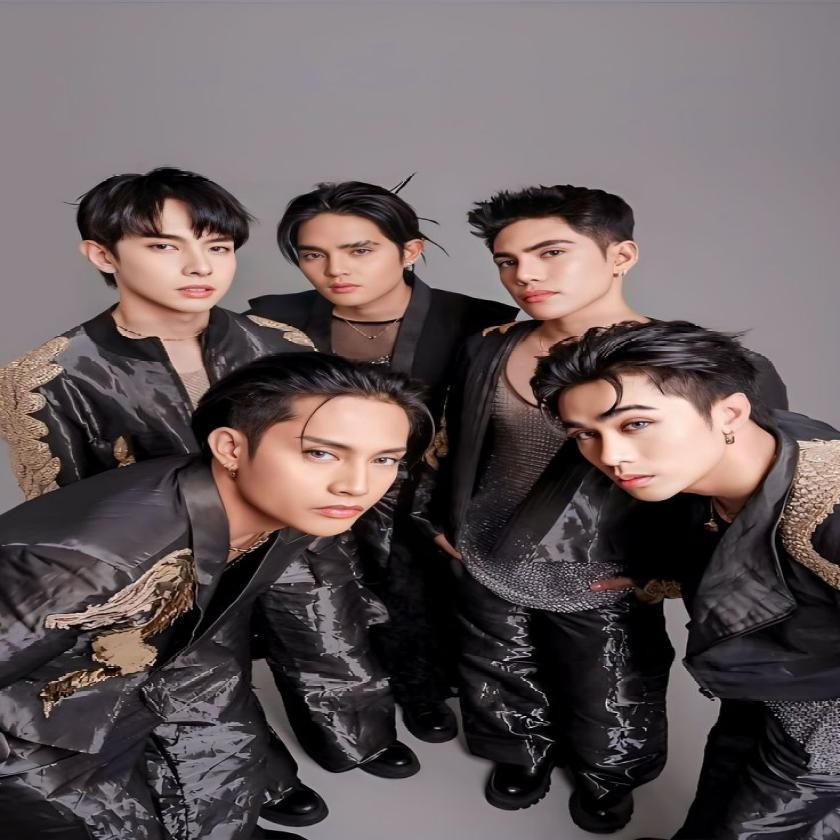Sin_casco: (538, 324, 767, 521), (204, 351, 418, 556), (76, 162, 257, 338), (474, 186, 644, 338), (282, 180, 428, 313)
